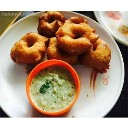vada: (81, 34, 111, 74), (57, 21, 99, 48), (10, 32, 48, 60), (45, 36, 79, 64), (38, 10, 66, 36)
